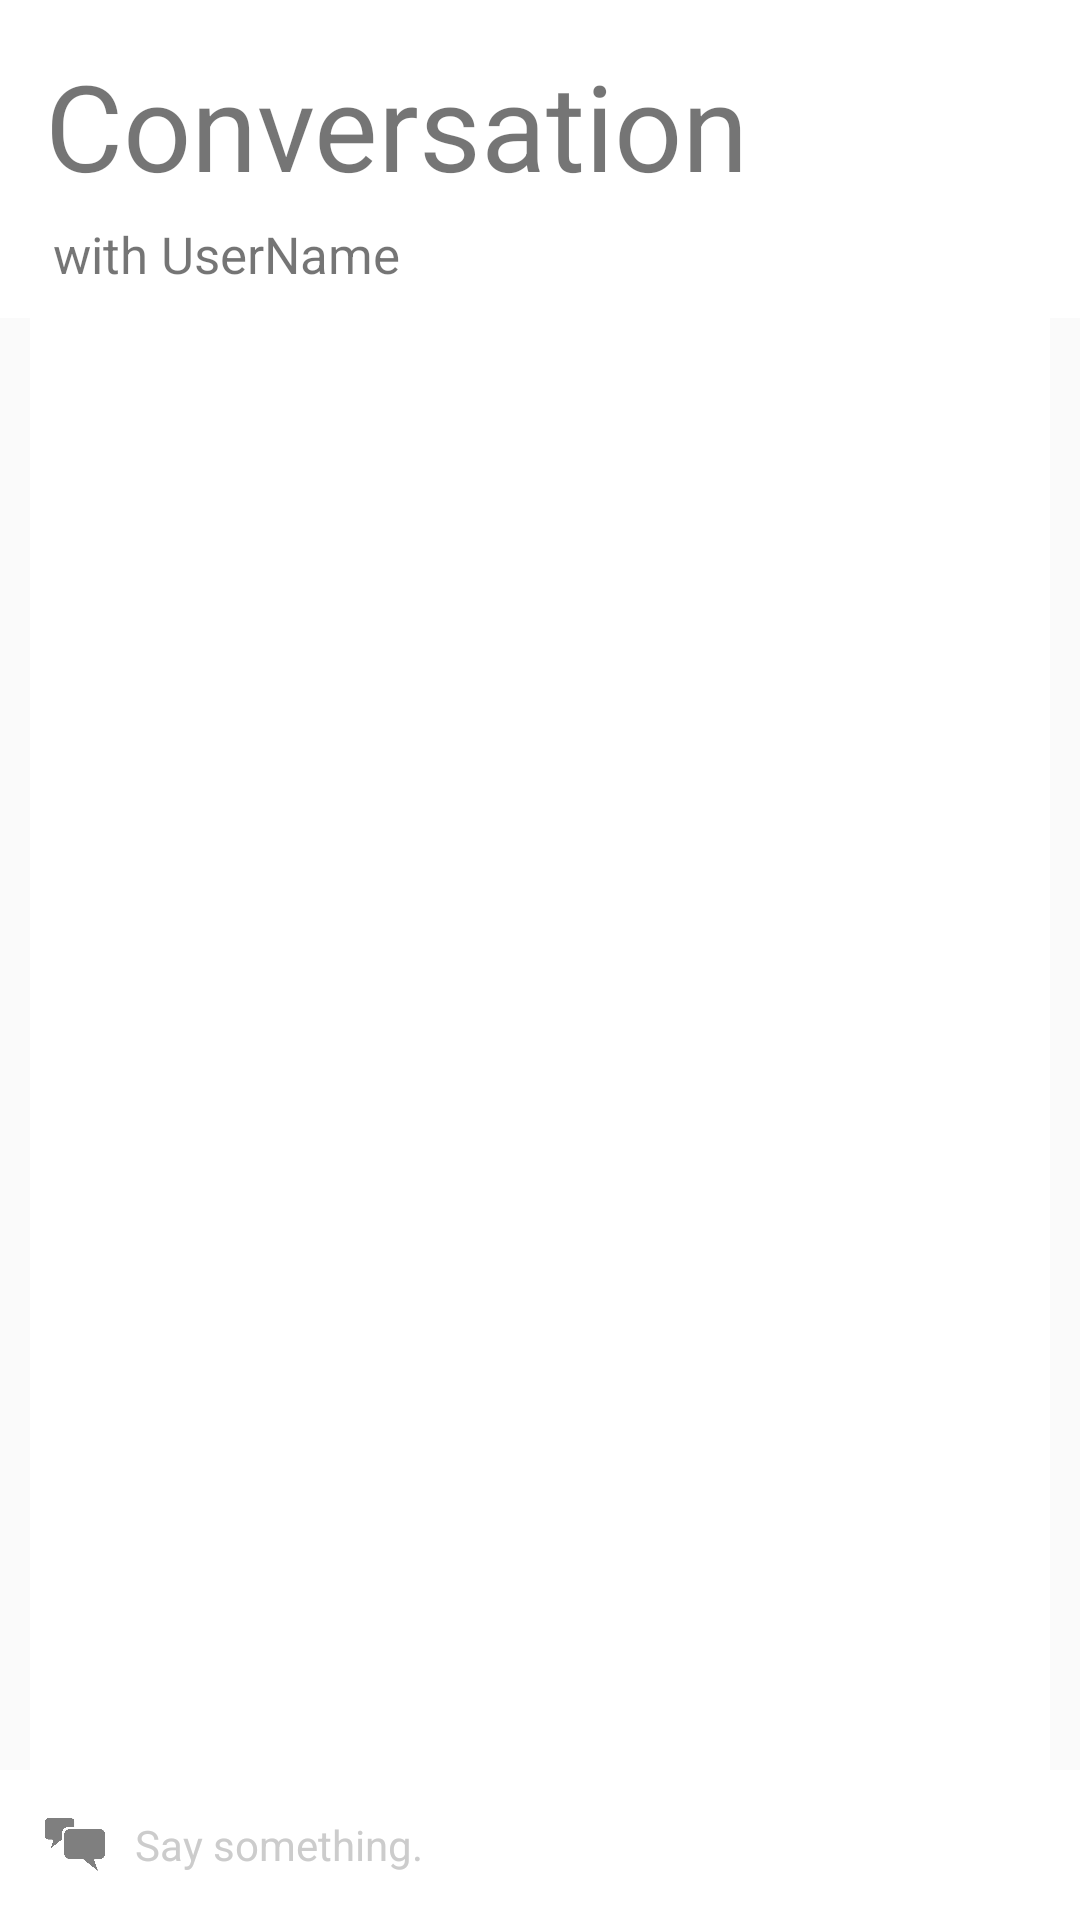

Where to tap for icons on this 1080*1920 app screen, as (x,y):
messaging: (75,1844)
